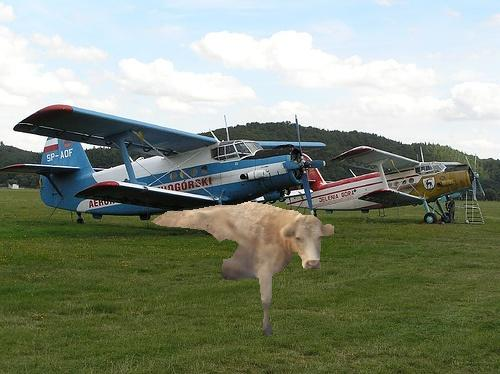tampered: (152, 202, 334, 335)
